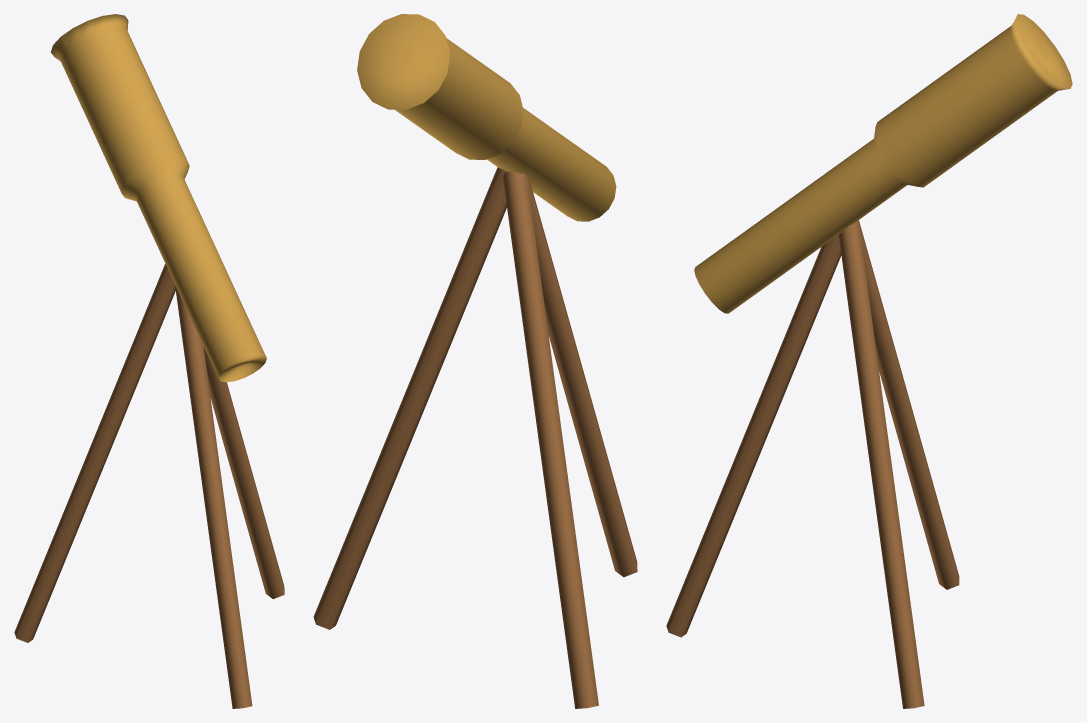
The model's file is furn_od_telescope.glb.
3 views of the same model, side by side, from view 1: azimuth 30°, elevation 25°; view 2: azimuth 150°, elevation 25°; view 3: azimuth 270°, elevation 25° (orthographic). The views are drawn at different scales.
Parts seen in each view (by area): view 1: furn_od_telescope_gloss, furn_od_telescope_main; view 2: furn_od_telescope_main, furn_od_telescope_gloss; view 3: furn_od_telescope_gloss, furn_od_telescope_main.
Boxes of the visible parts, x1,y1,x2,y2 form: furn_od_telescope_gloss: (51, 14, 266, 382); furn_od_telescope_main: (14, 264, 284, 708); furn_od_telescope_main: (313, 167, 637, 708); furn_od_telescope_gloss: (357, 14, 616, 221); furn_od_telescope_gloss: (694, 14, 1072, 313); furn_od_telescope_main: (666, 220, 959, 708).
Size of the model in its own units: 0.5531 by 1.2 by 0.7091.
